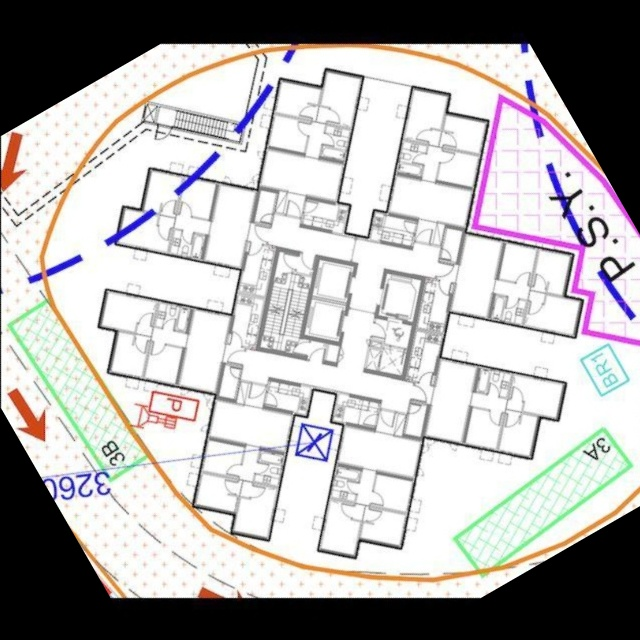tower_crane: (294, 421, 336, 465)
